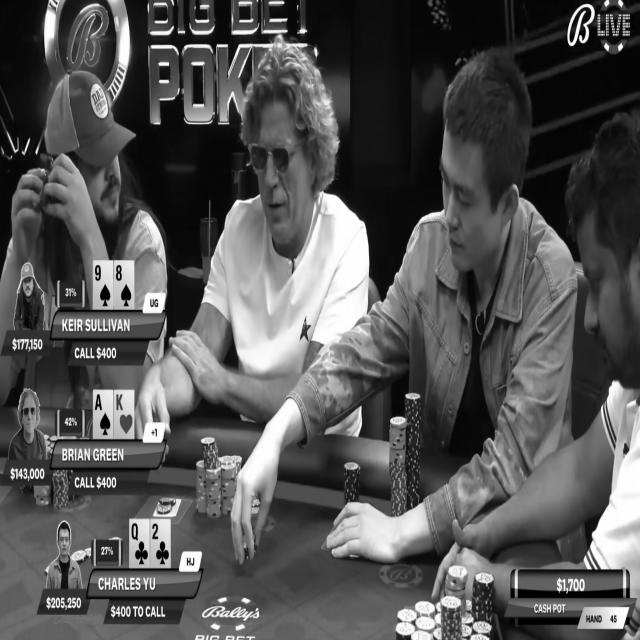2C: (152, 519, 170, 569)
8S: (114, 262, 134, 310)
9S: (94, 262, 113, 309)
AS: (94, 390, 112, 438)
KH: (115, 391, 134, 437)
QC: (130, 520, 149, 568)
